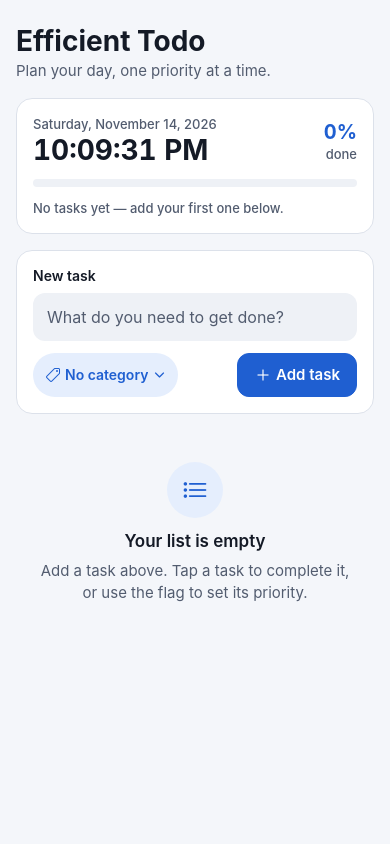
it: App › deletes a task and restores it with undo
Later steps or results of the test are not shown.
expect the text "Your list is empty" is shown: met, box [124,530,266,552]
Step 1. Type "Temporary" into the field named "New task" → (195, 317), box [33,293,357,341]
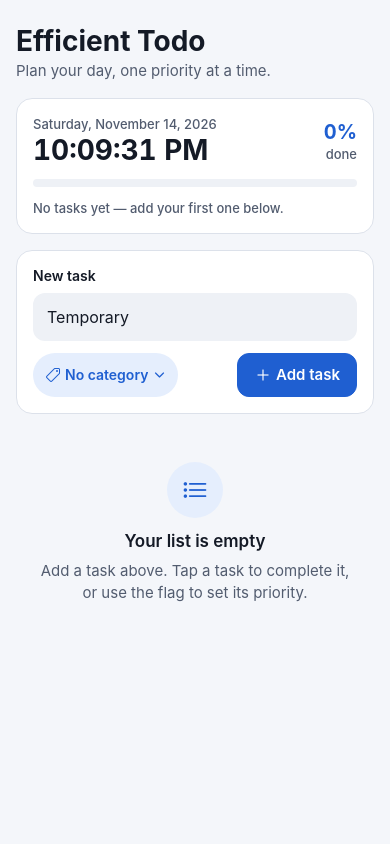
Step 2. Click the button "Add task" → (297, 375), box [237,353,357,397]
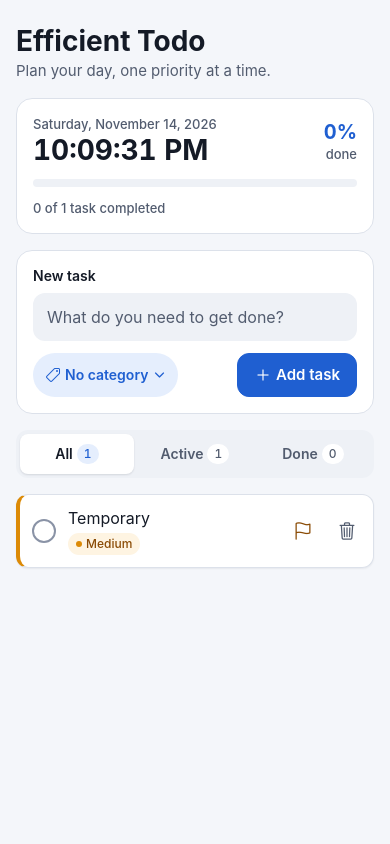
Step 3. Click the button named "Delete “Temporary”" → (347, 531), box [325,509,369,553]
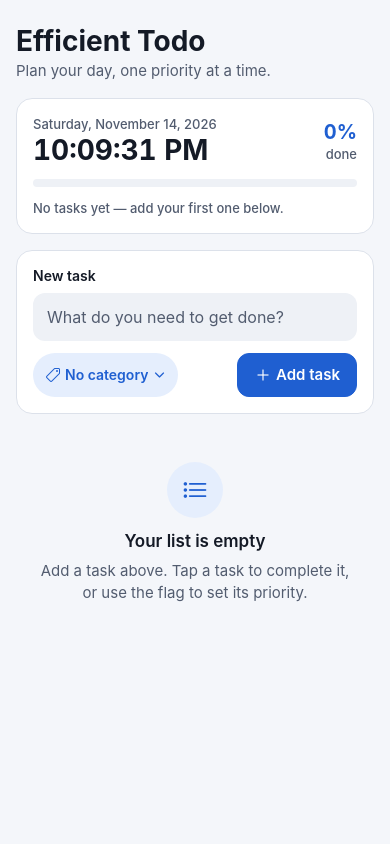
expect the checkbox "Temporary" is gone: met
